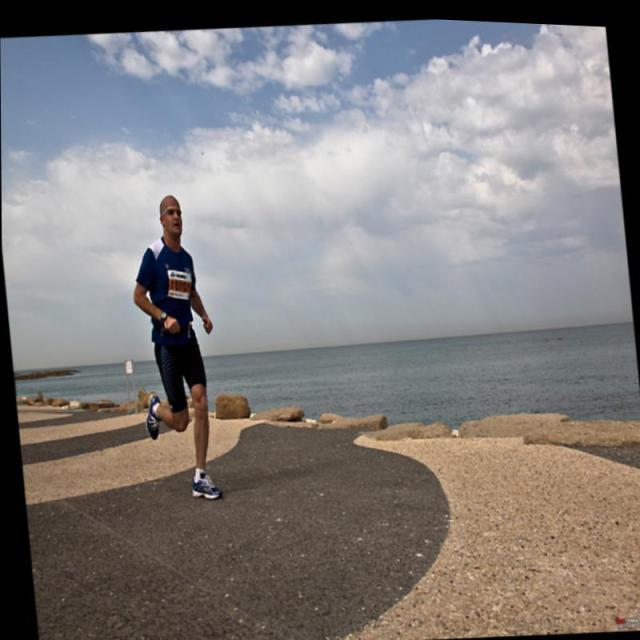dorsal: (161, 263, 198, 304)
